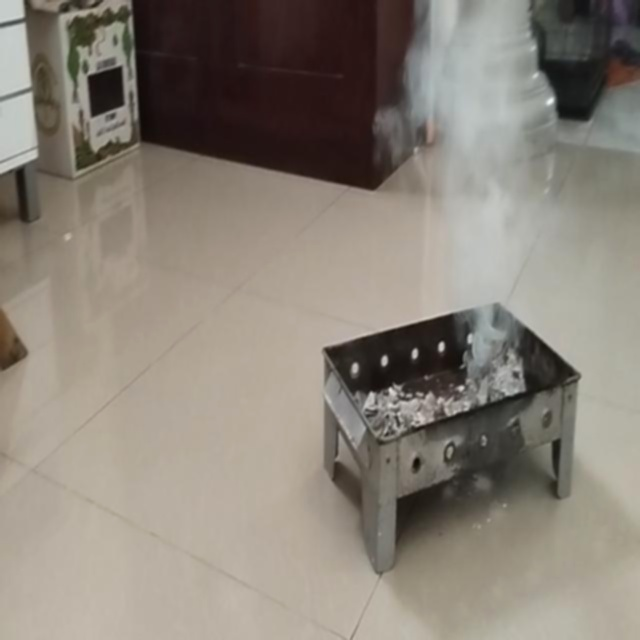smoke: (378, 1, 562, 406)
